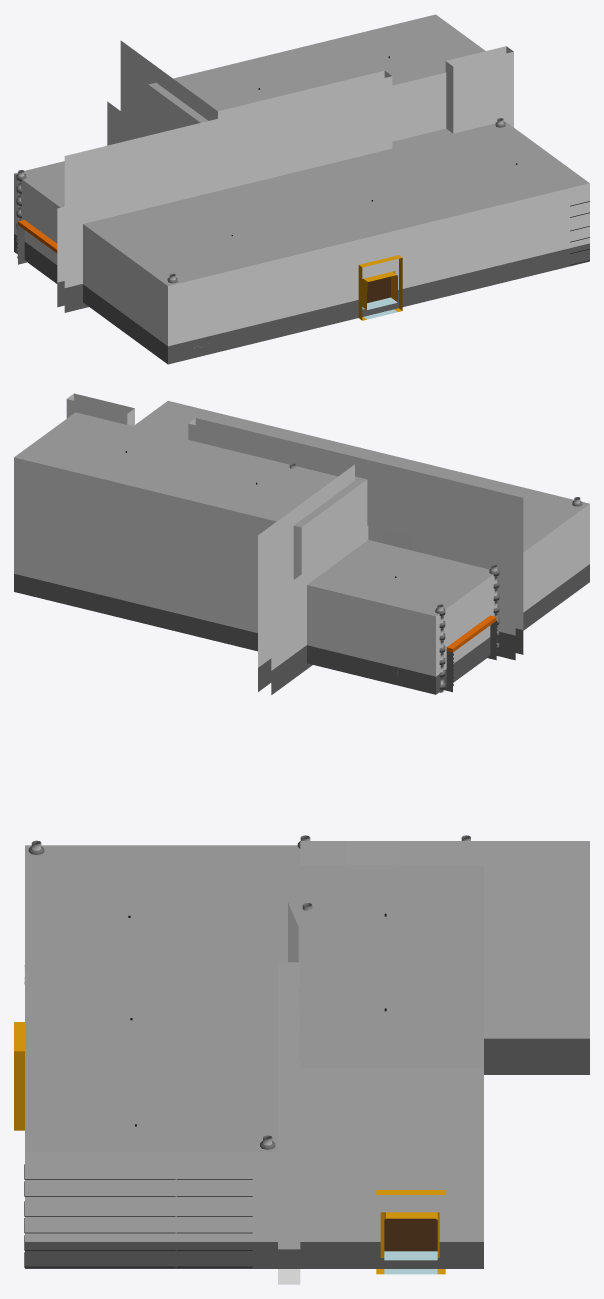
Rendered from modelos.fbx.
The picture shows the model from 3 angles, top to bottom: view 1: azimuth 30°, elevation 25°; view 2: azimuth 150°, elevation 25°; view 3: azimuth 270°, elevation 25°; orthographic projection. The views are drawn at different scales.
Parts seen in each view (by area): view 1: Deposito; view 2: Deposito; view 3: Deposito.
Part boxes in pixels (left/top/right/bottom): Deposito: left=14, top=14, right=589, bottom=364; Deposito: left=14, top=393, right=589, bottom=694; Deposito: left=14, top=835, right=589, bottom=1284.
Size of the model in its own units: 49.5 by 16.53 by 36.88.
